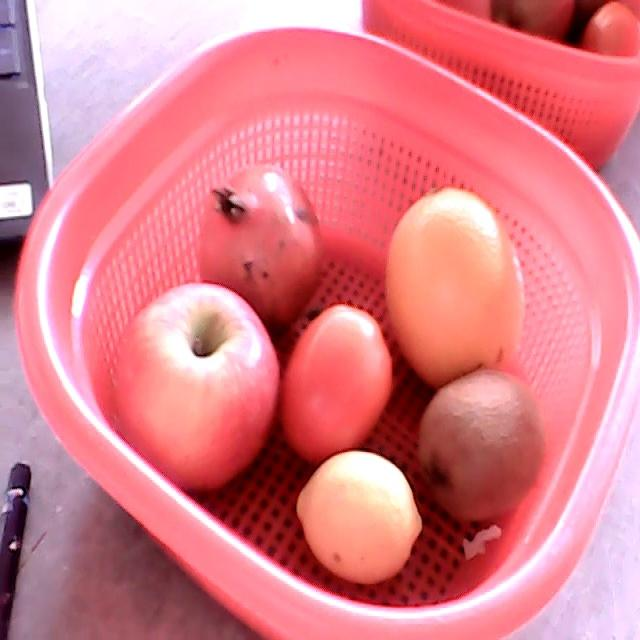apple: (117, 280, 280, 489)
kiwi: (420, 370, 545, 518)
lemon: (297, 450, 422, 586)
orange: (385, 186, 523, 383)
pomegranate: (198, 168, 323, 324)
tomato: (282, 303, 394, 461)
